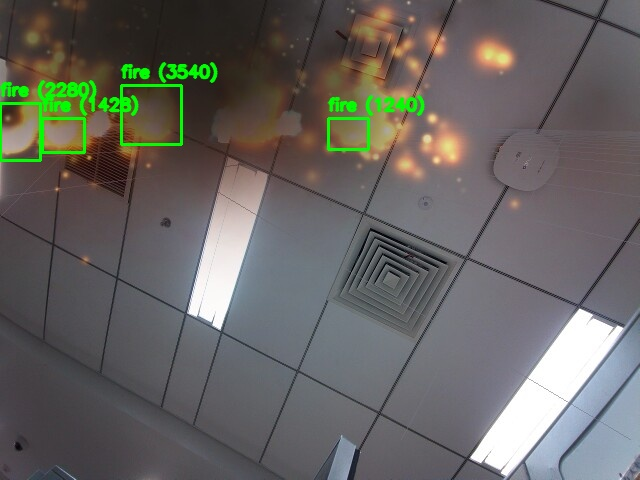fire: (121, 85, 181, 144), (0, 103, 40, 160), (42, 118, 84, 152), (328, 118, 368, 149)
